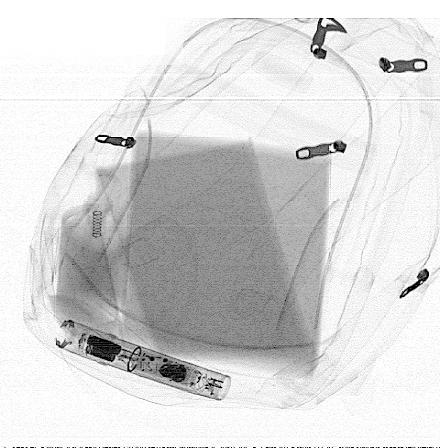Baton: (53, 316, 232, 402)
